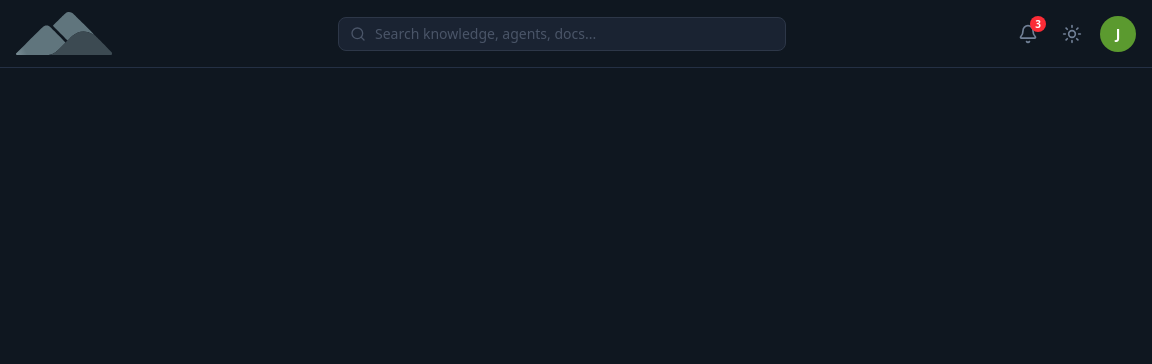
Scenario: TopBar — Notification dropdown › shows notification items
Check: the text "3" is shown, box [1030, 16, 1046, 32]
Click the button with test id "notifications-bell": (1028, 34) [1012, 18, 1044, 50]
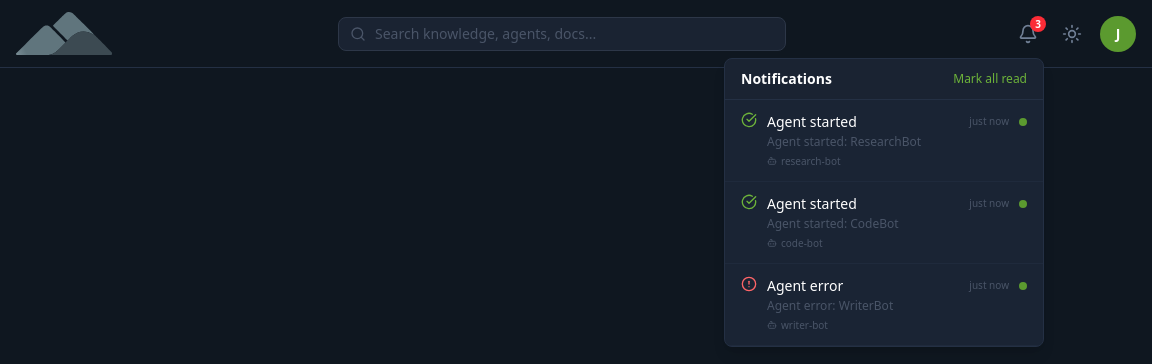
Check: the number of elements with test id "notification-item" is 3, box [725, 100, 1043, 182]; [725, 182, 1043, 264]; [725, 264, 1043, 346]
